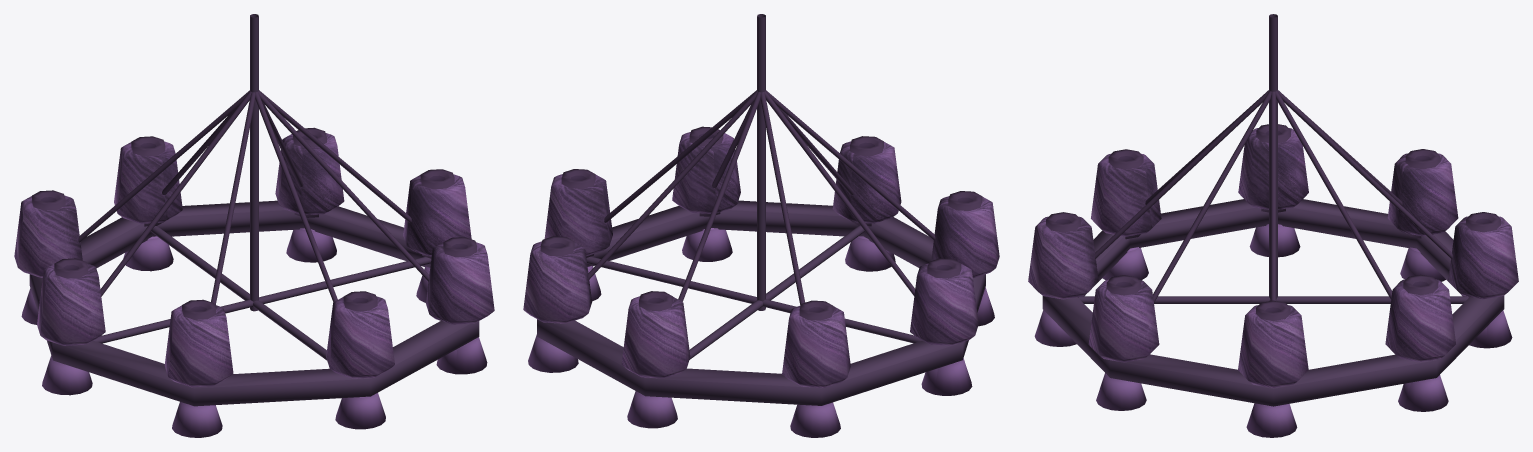
File: cha.fbx
The picture shows the model from 3 angles, left to right: view 1: azimuth 30°, elevation 25°; view 2: azimuth 150°, elevation 25°; view 3: azimuth 270°, elevation 25°; orthographic projection.
Visible parts, largest first — view 1: chandelier; view 2: chandelier; view 3: chandelier.
Part boxes in pixels (box(x1,y1,x2,y2)): chandelier: box(14, 14, 494, 437); chandelier: box(523, 14, 999, 437); chandelier: box(1028, 14, 1518, 437).
Bounding box in the file's own units: 450 × 335 × 451.
